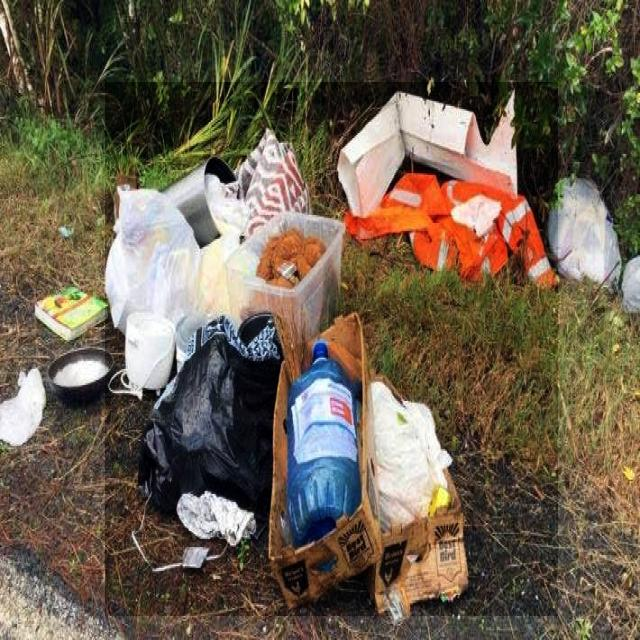dumping: (105, 82, 558, 616)
